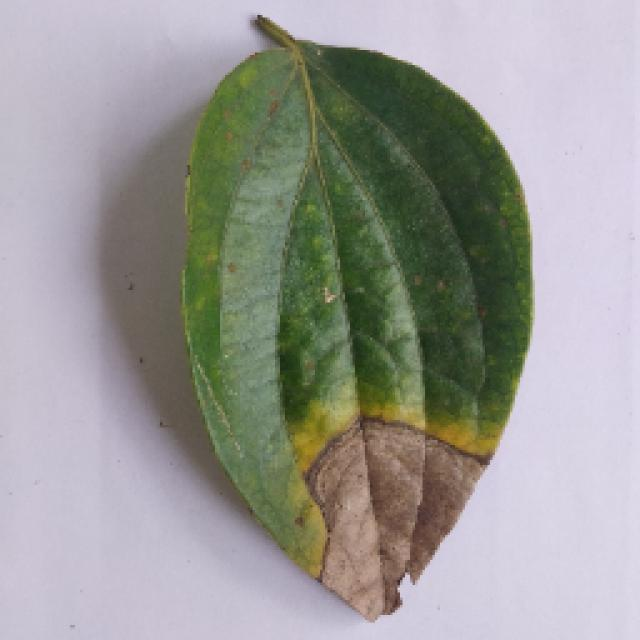footrot: (178, 20, 530, 620)
